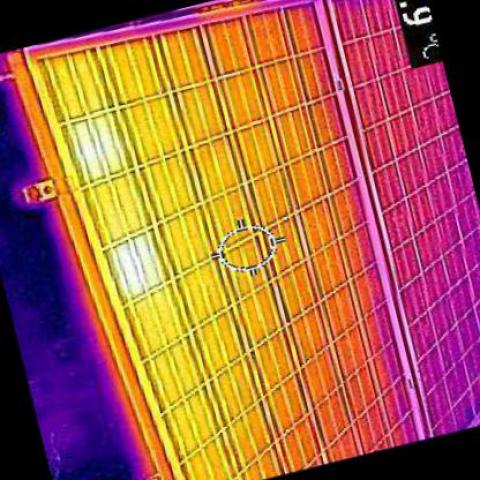fault: (68, 120, 124, 175), (106, 244, 164, 286)
